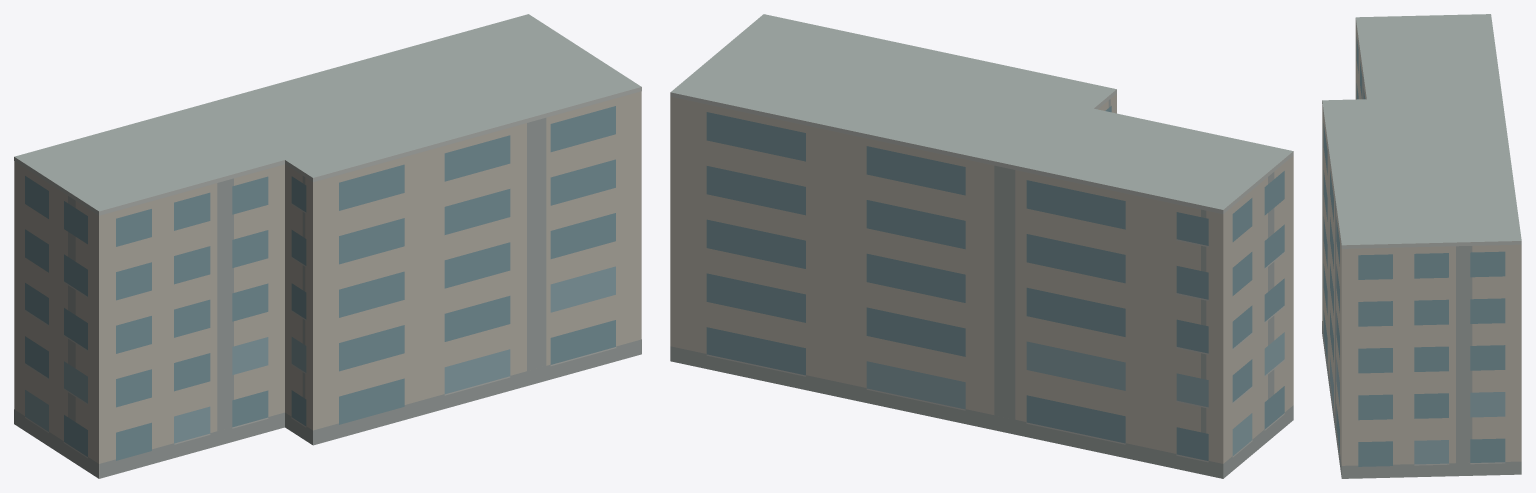
Rendered from residential-c67f49bc-d102-4a2b-87a3-364e71445ad5.glb.
The picture shows the model from 3 angles, left to right: view 1: azimuth 30°, elevation 25°; view 2: azimuth 150°, elevation 25°; view 3: azimuth 270°, elevation 25°; orthographic projection. The views are drawn at different scales.
Parts seen in each view (by area): view 1: residential-c67f49bc-d102-4a2b-87a3-364e71445ad5.tmp; view 2: residential-c67f49bc-d102-4a2b-87a3-364e71445ad5.tmp; view 3: residential-c67f49bc-d102-4a2b-87a3-364e71445ad5.tmp.
Boxes of the visible parts, left/top/right/bottom form: residential-c67f49bc-d102-4a2b-87a3-364e71445ad5.tmp: left=14, top=14, right=641, bottom=478; residential-c67f49bc-d102-4a2b-87a3-364e71445ad5.tmp: left=670, top=14, right=1293, bottom=478; residential-c67f49bc-d102-4a2b-87a3-364e71445ad5.tmp: left=1322, top=14, right=1521, bottom=478.
Bounding box in the file's own units: 32.37 × 15.25 × 11.81.
